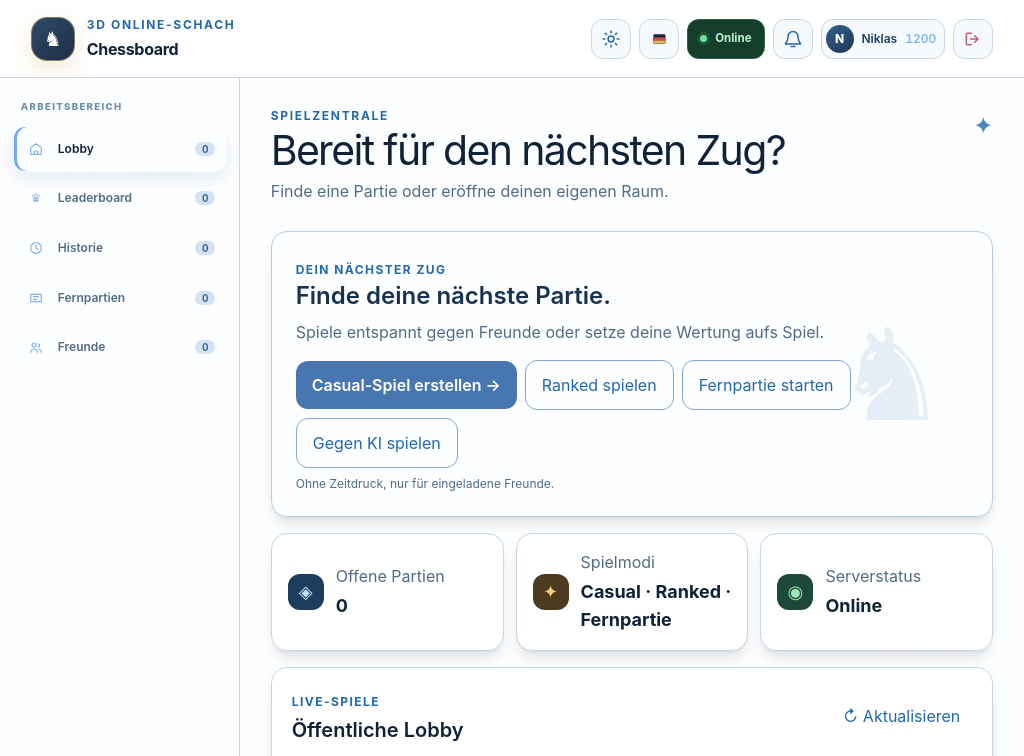
Test: App › uses icon controls and opens the profile directly from the header
Expected: the heading "Bereit für den nächsten Zug?" is shown, [271, 130, 785, 171]
Expected: the button named "Benachrichtigungen (0)" is empty, [772, 18, 812, 58]
Click the button with aria-label "Niklas · 1200". click: {"x": 883, "y": 38}
box: [820, 18, 945, 58]
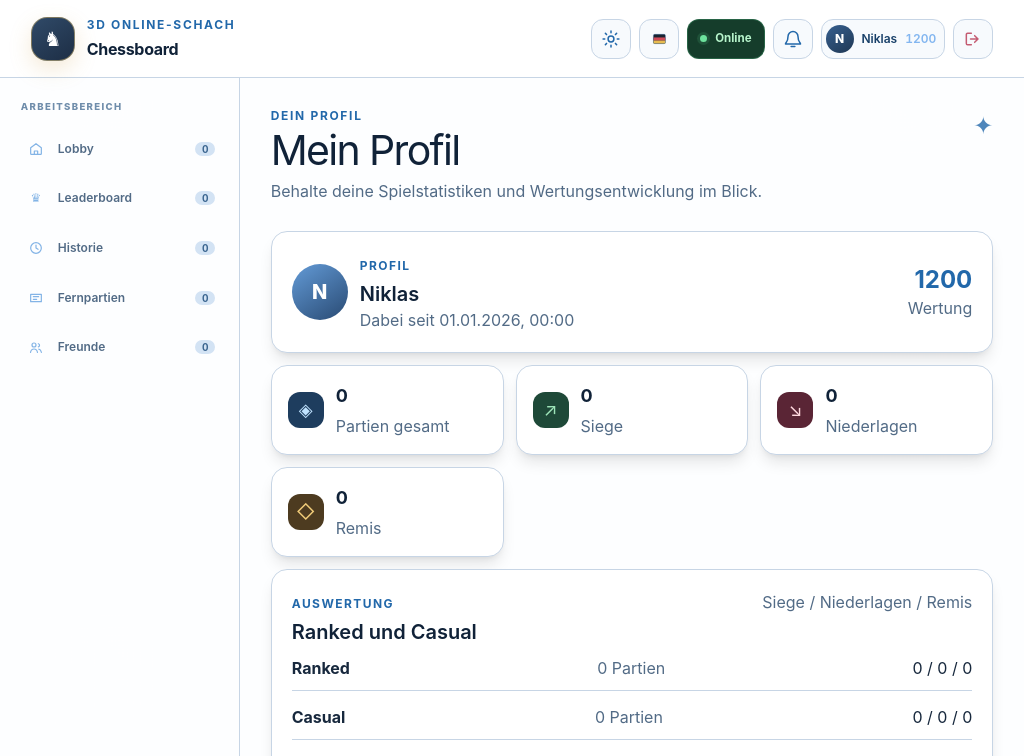
Expected: the heading "Mein Profil" is shown, [271, 125, 460, 175]
